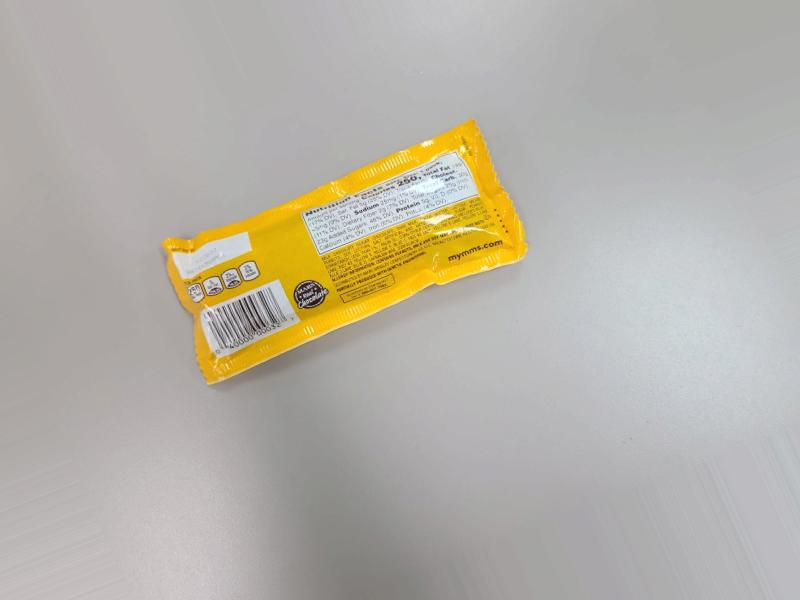m&m: (187, 106, 529, 385)
